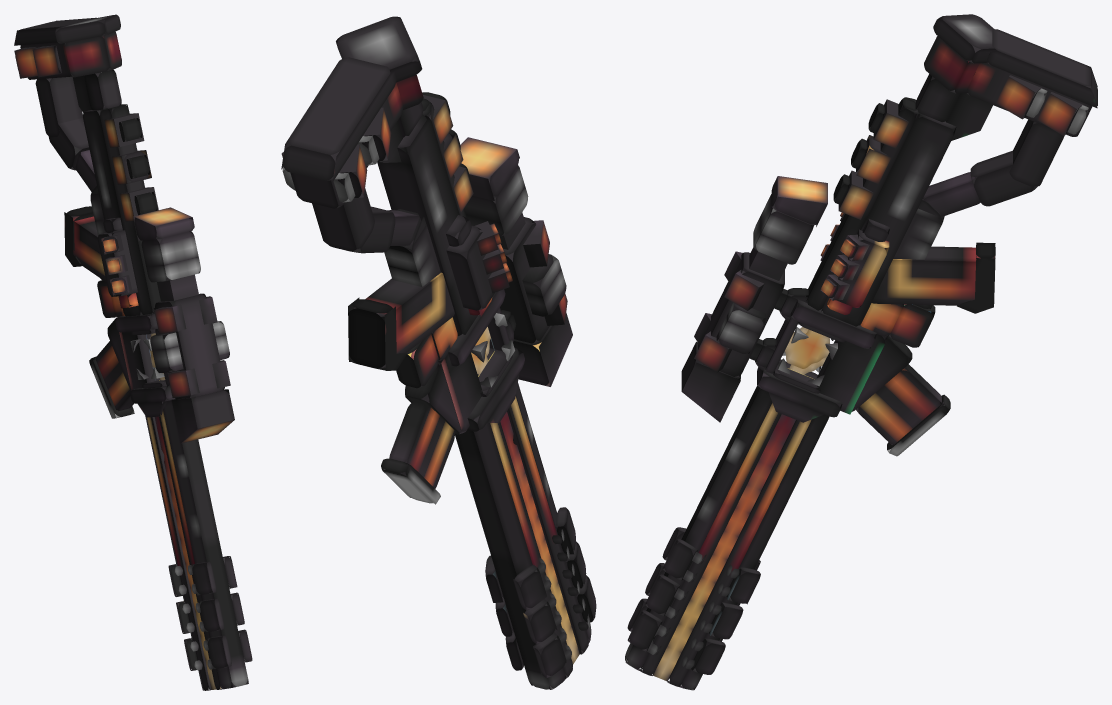
The model's file is S7_gun.fbx.
3 renders of one model, left to right at view 1: azimuth 30°, elevation 25°; view 2: azimuth 150°, elevation 25°; view 3: azimuth 270°, elevation 25°, orthographic. The views are drawn at different scales.
Parts seen in each view (by area): view 1: Gun07.001; view 2: Gun07.001; view 3: Gun07.001.
Boxes of the visible parts, x1,y1,x2,y2 form: Gun07.001: (14, 14, 252, 690); Gun07.001: (281, 16, 596, 689); Gun07.001: (625, 14, 1097, 690).
Size of the model in its own units: 18.43 by 87.51 by 137.
